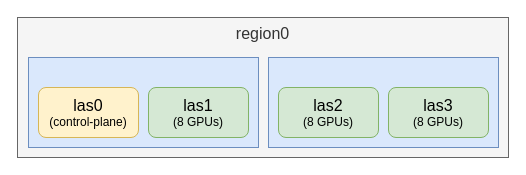
This 526x175 diagram has some shape labels left out. The shapes that lost their labels are listed below. From the top down, each one's box as (x1, y1, x2, y2) in pixels, then its label:
(28, 56, 258, 148): rack0
(268, 56, 498, 148): rack1
